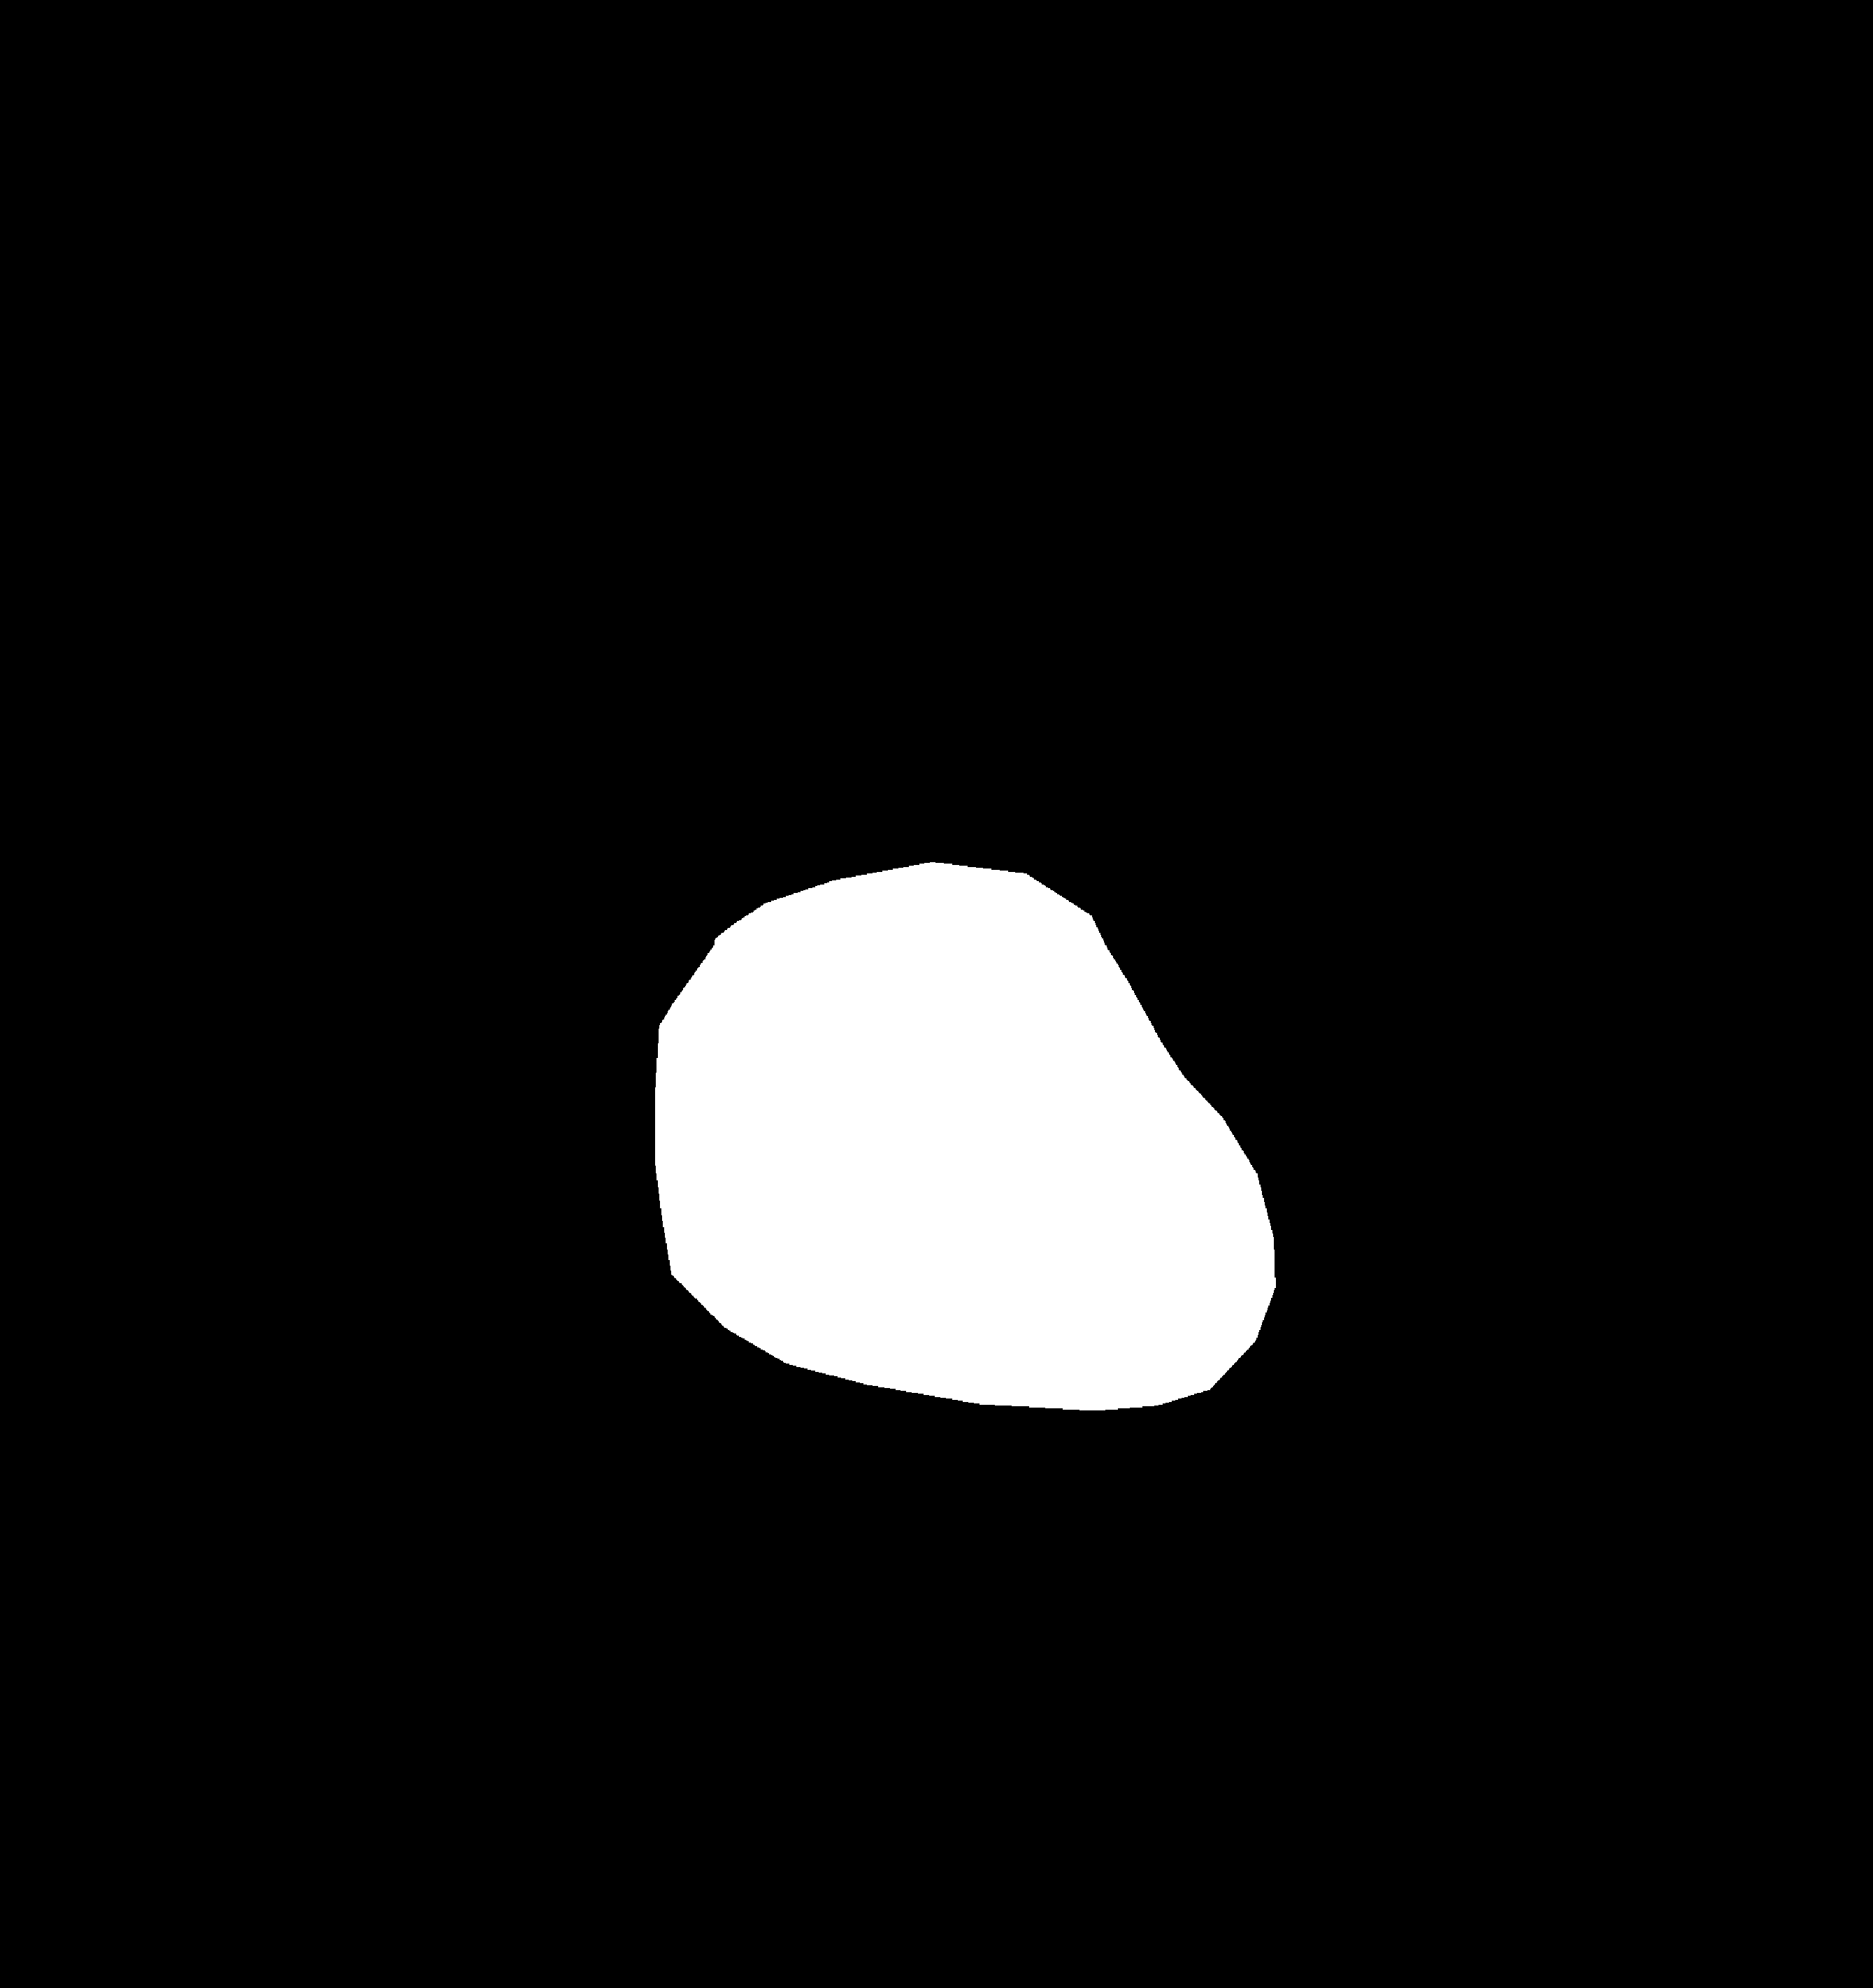heart: (651, 942, 1276, 1402)
left_lung: (194, 217, 850, 1481)
right_lung: (1007, 199, 1628, 1620)
